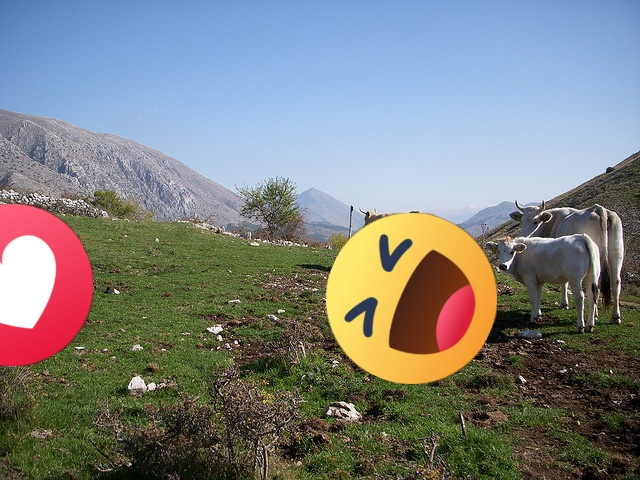haha: (326, 213, 497, 384)
love: (0, 204, 93, 366)
